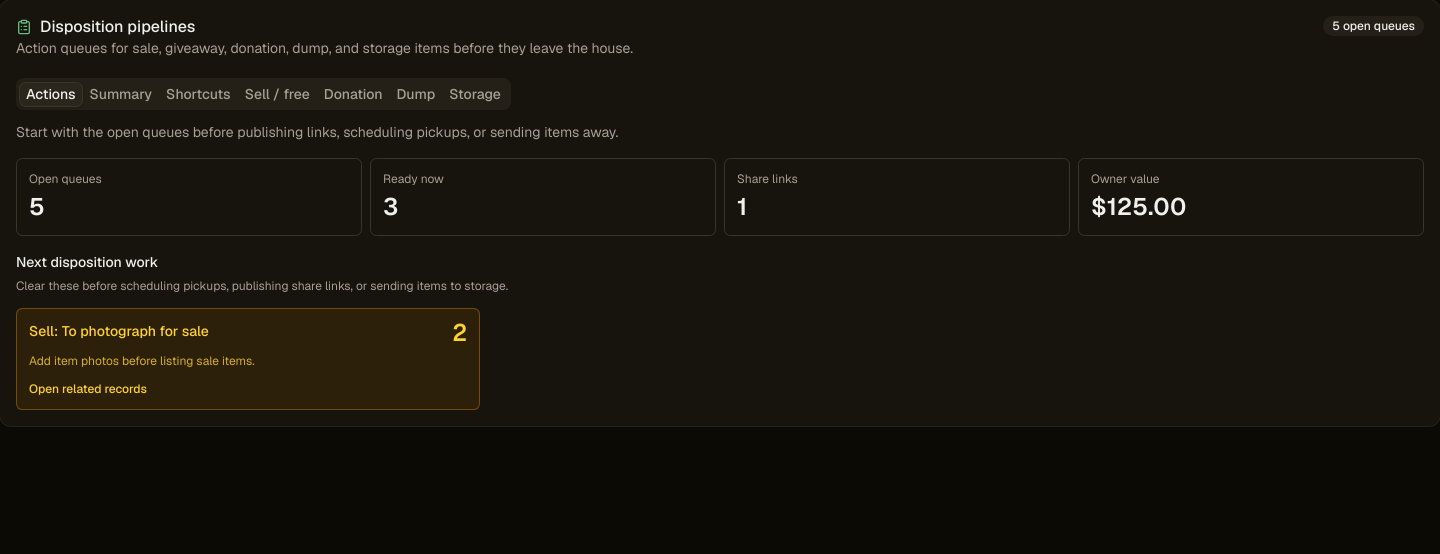
Scenario: DispositionPipelinePanel task tabs › opens on action queues and separates summary, shortcuts, and disposition categories
Expected: the text "Start with the open queues before publishing links, scheduling pickups, or sending items away." is shown, [16,123,618,141]
Expected: the text "Sell: To photograph for sale" is shown, [29,321,209,341]
Click the tab "Summary": coordinates (121, 94) [82,82,159,106]
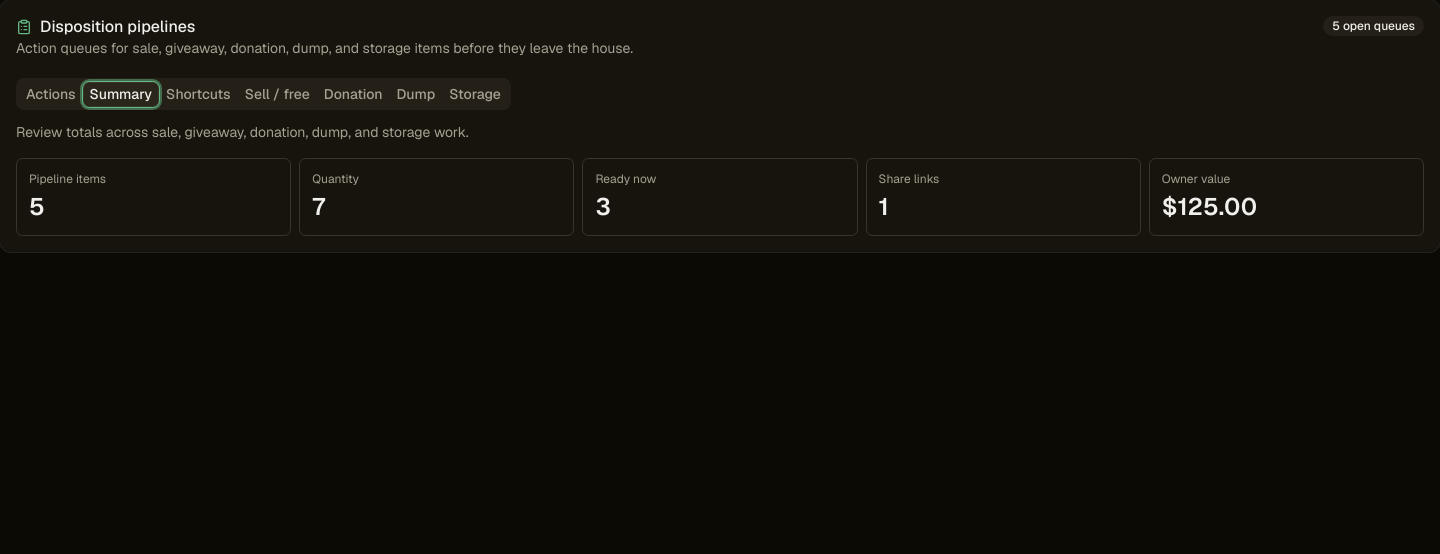
Result: the text "Review totals across sale, giveaway, donation, dump, and storage work." is shown at [16,123,469,141]
Result: the text "Pipeline items" is shown at [29,171,106,187]
Result: the link "Sell: To photograph for sale" is gone
Click the tab "Shortcuts": coordinates (198, 94) [159,82,238,106]
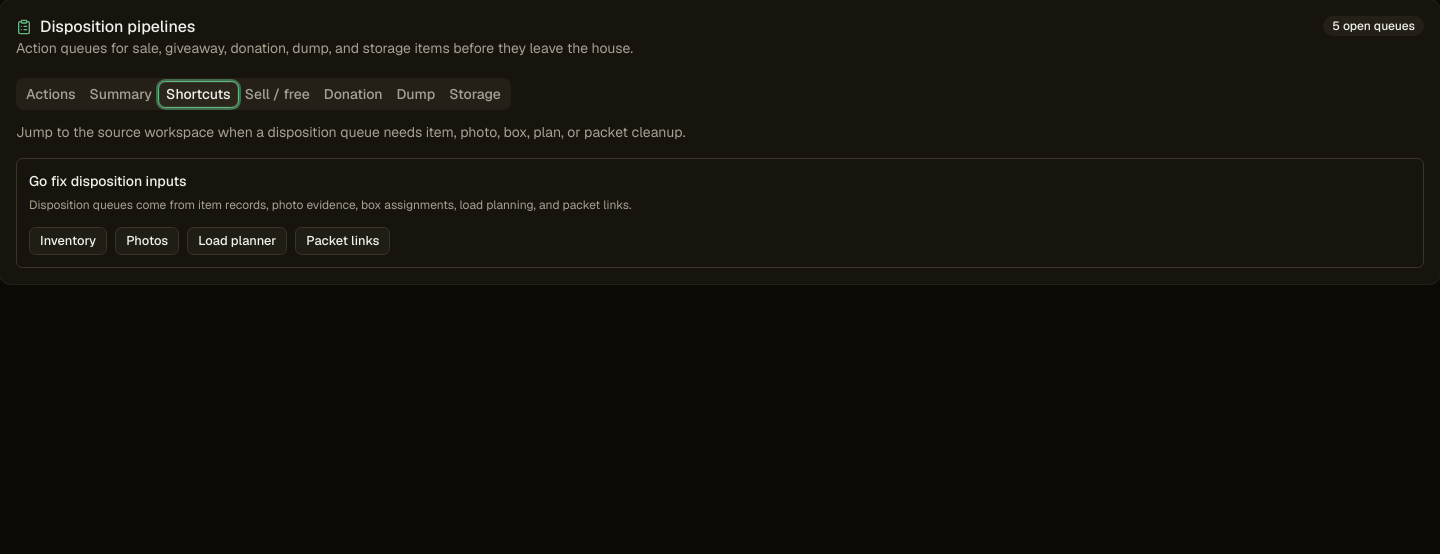
Result: the text "Jump to the source workspace when a disposition queue needs item, photo, box, plan, or packet cleanup." is shown at [16,123,686,141]
Result: the text "Go fix disposition inputs" is shown at [29,172,186,190]
Result: the text "Pipeline items" is gone
Click the tab "Sell / free": coordinates (277, 94) [238,82,317,106]
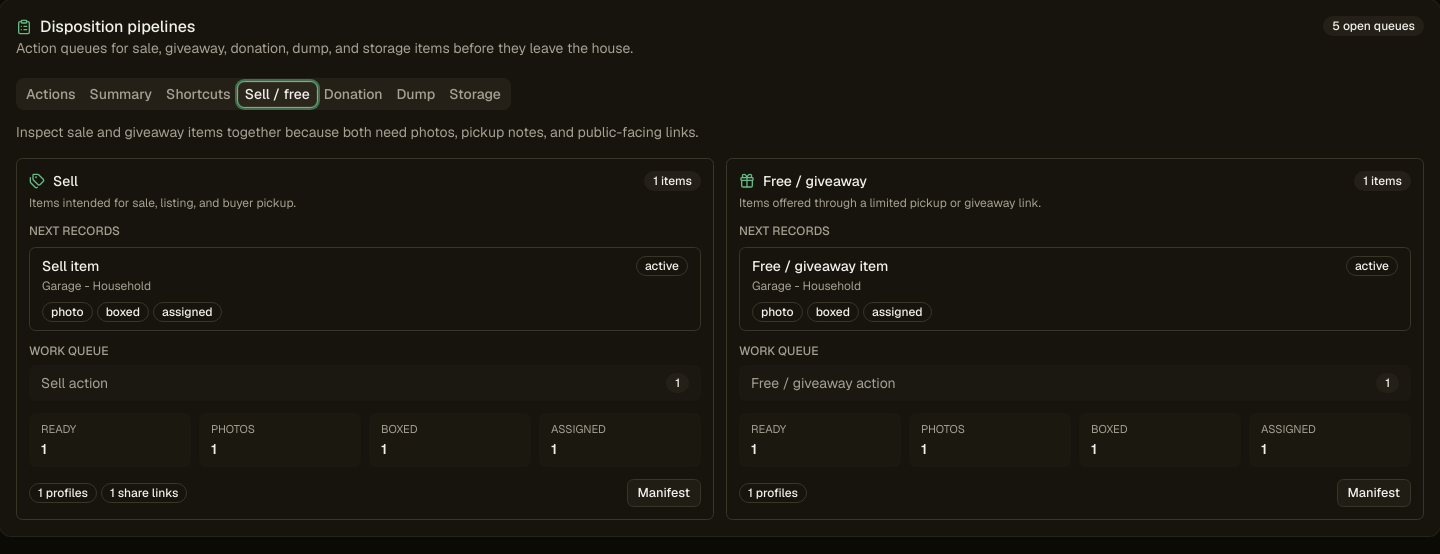
Result: the text "Inspect sale and giveaway items together because both need photos, pickup notes, and public-facing links." is shown at [16,123,698,141]
Result: the text "Items intended for sale, listing, and buyer pickup." is shown at [29,195,296,211]
Result: the text "Items offered through a limited pickup or giveaway link." is shown at [739,195,1041,211]
Click the tab "Donation": coordinates (353, 94) [317,82,390,106]
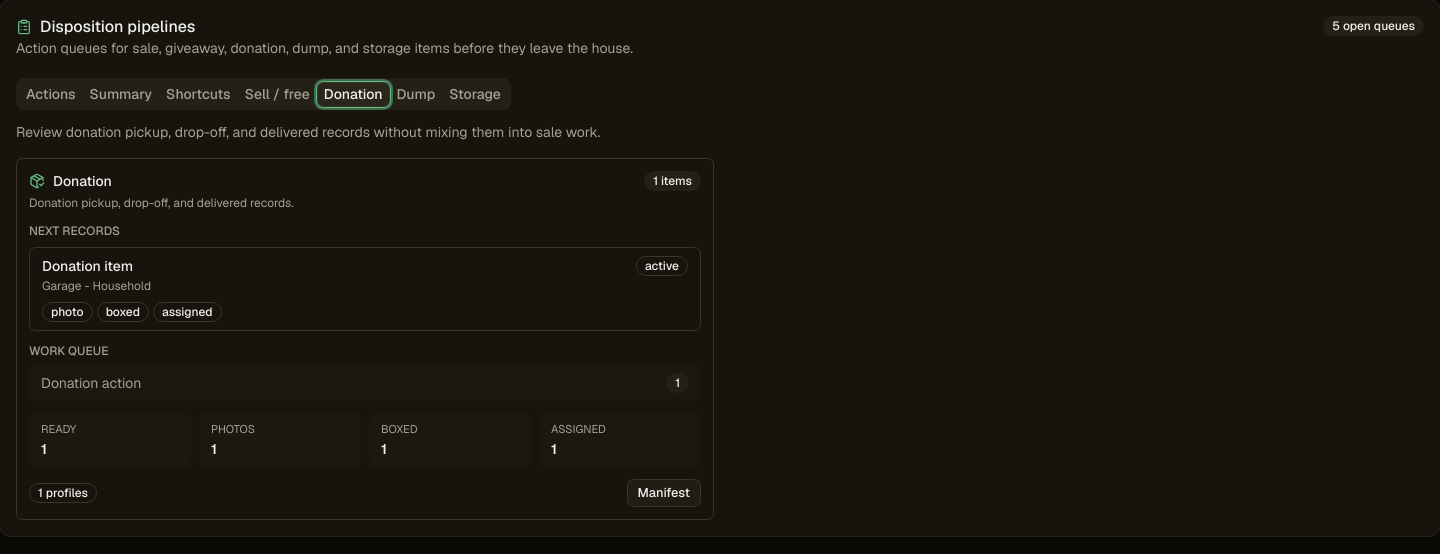
Result: the text "Review donation pickup, drop-off, and delivered records without mixing them into sale work." is shown at [16,123,600,141]
Result: the text "Donation pickup, drop-off, and delivered records." is shown at [29,195,294,211]
Result: the text "Items intended for sale, listing, and buyer pickup." is gone
Click the tab "Dump": coordinates (416, 94) [390,82,442,106]
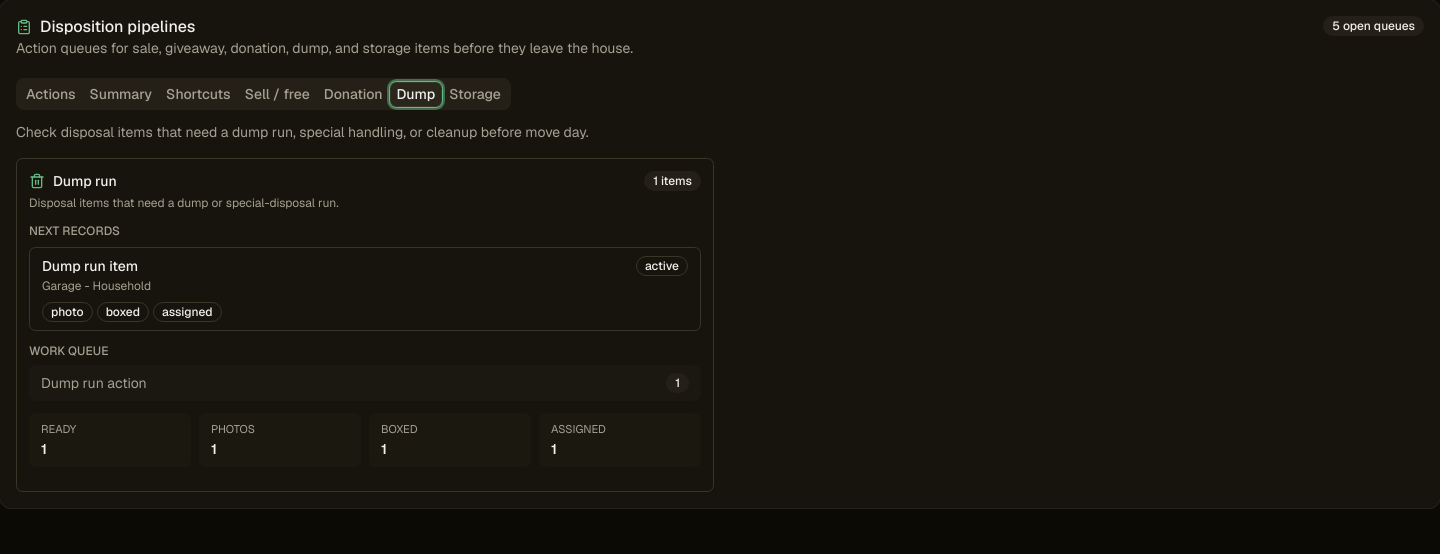
Result: the text "Check disposal items that need a dump run, special handling, or cleanup before move day." is shown at [16,123,589,141]
Result: the text "Disposal items that need a dump or special-disposal run." is shown at [29,195,339,211]
Click the tab "Storage": coordinates (475, 94) [442,82,508,106]
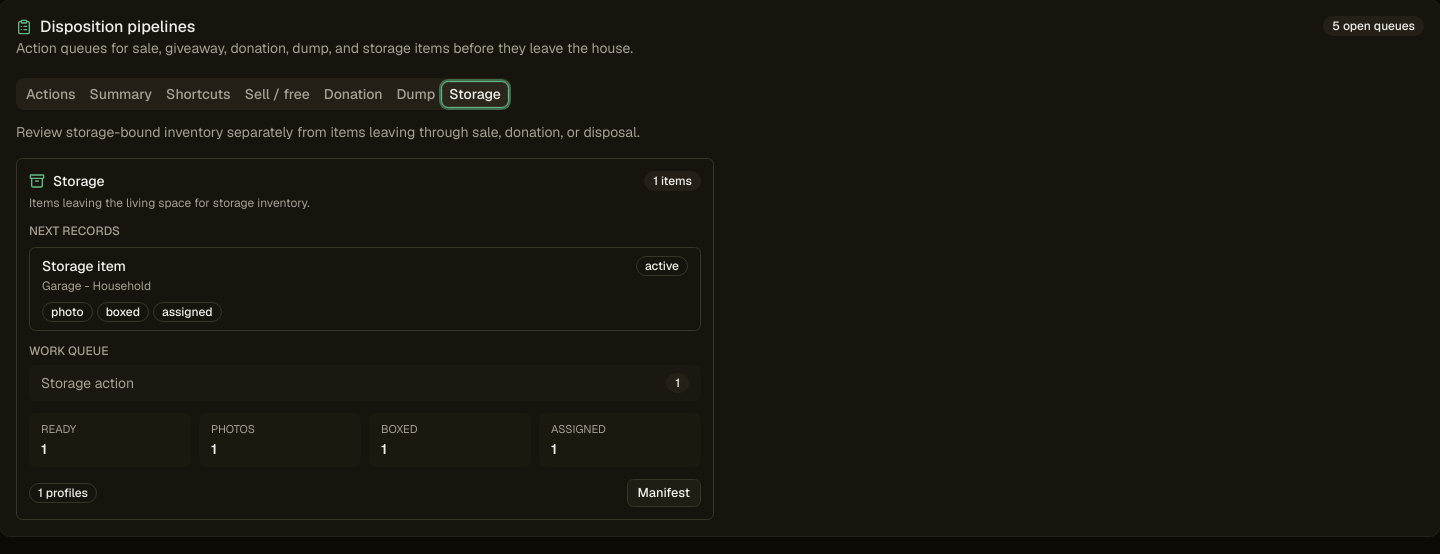
Result: the text "Review storage-bound inventory separately from items leaving through sale, donation, or disposal." is shown at [16,123,640,141]
Result: the text "Items leaving the living space for storage inventory." is shown at [29,195,310,211]
